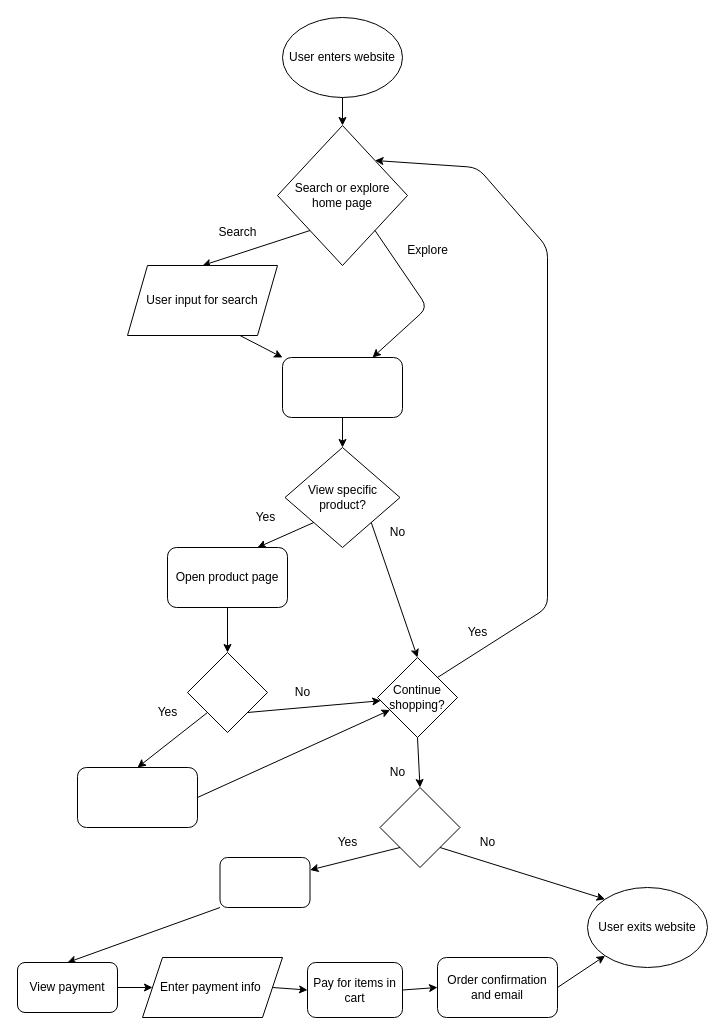
The diagram is 725 pixels wide and 1035 high, and some of its shapes have lost their labels. Each missing label, with the centre of its shape:
"Add to cart?" belongs at pixel 227 692.
"Added to cart confirmation" belongs at pixel 137 797.
"Checkout?" belongs at pixel 419 827.
"Product browsing" belongs at pixel 342 387.
"View cart" belongs at pixel 264 882.
